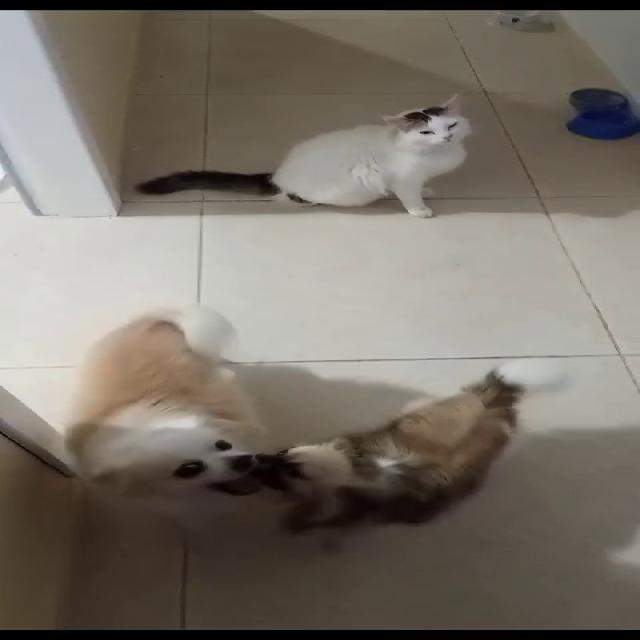Pedrita: (228, 332, 553, 542)
Simba: (165, 71, 528, 238)
Theo: (39, 279, 304, 493)
